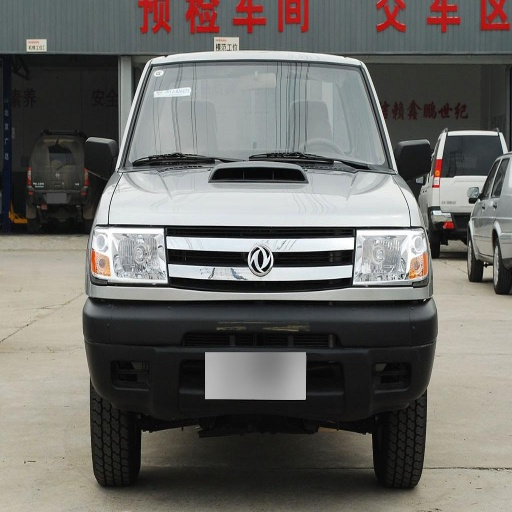front_bumper: (89, 228, 431, 419)
front_right_light: (91, 226, 166, 284)
hood: (112, 162, 412, 236)
left_mirror: (398, 140, 433, 175)
